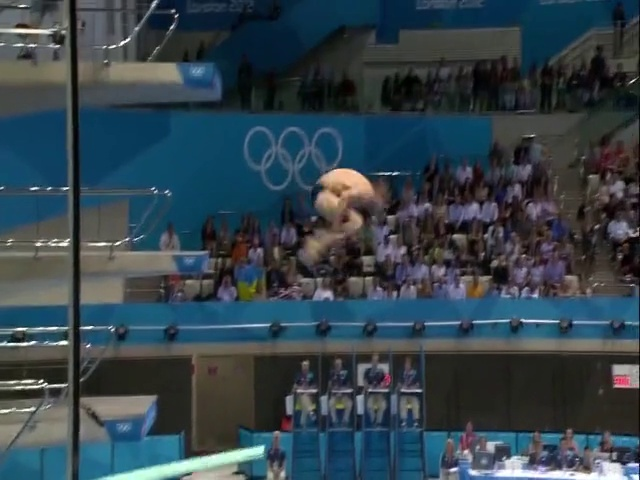diver: (302, 168, 379, 265)
